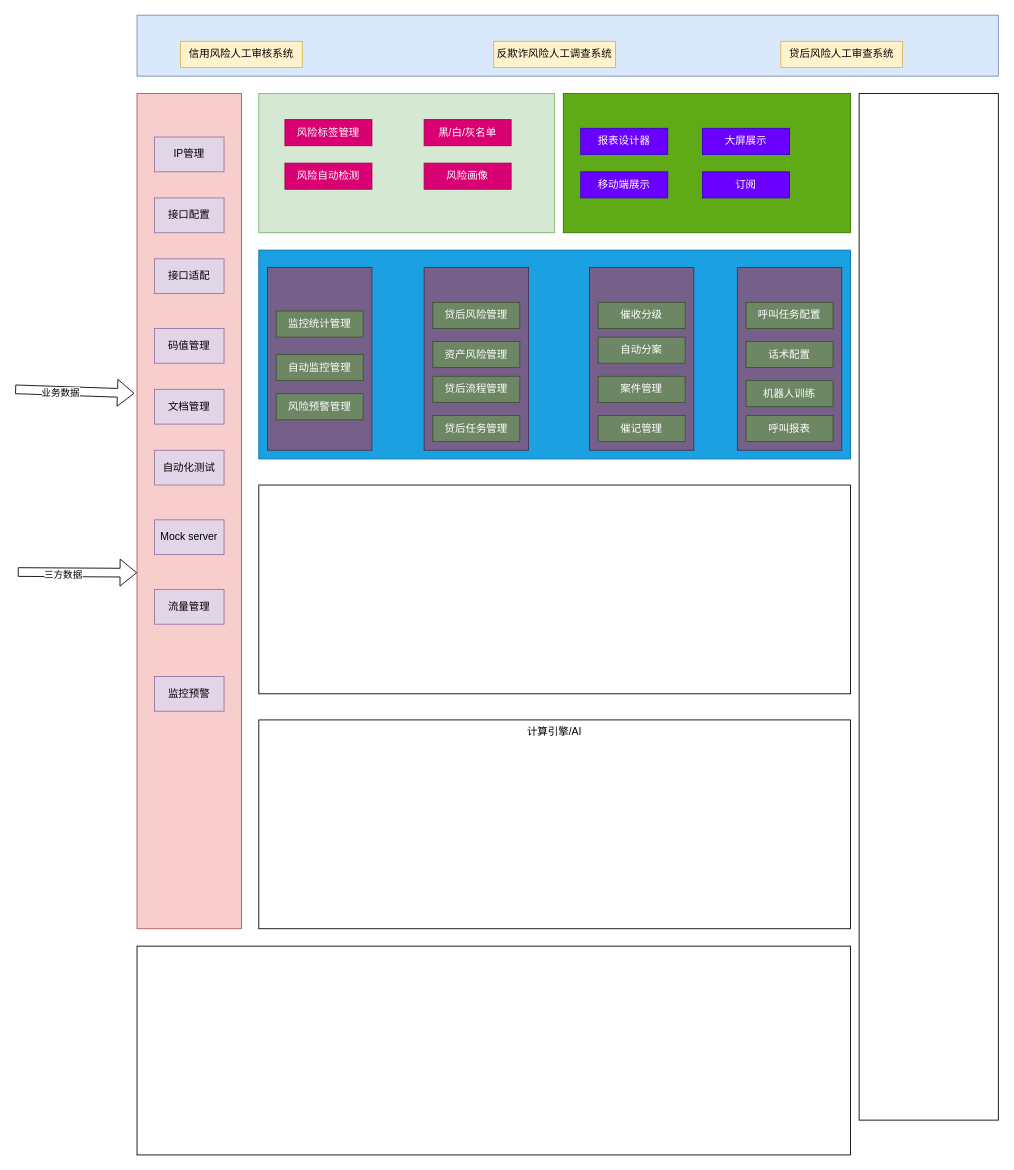
This 1014x1170 diagram has some shape labels left out. The box of each missing label's shape, as (x1, y1, x2, y2) in pixels:
接口管理系统: (136, 93, 241, 929)
数据平台: (136, 945, 850, 1155)
智能语音机器人: (736, 267, 842, 450)
贷中监控系统: (267, 267, 372, 450)
贷前/贷中/贷后风控业务: (136, 14, 998, 76)
贷后催收系统: (589, 267, 694, 450)
贷后管理系统: (423, 267, 529, 450)
风控报表系统: (562, 93, 850, 233)
风险管理系统: (258, 93, 555, 233)
